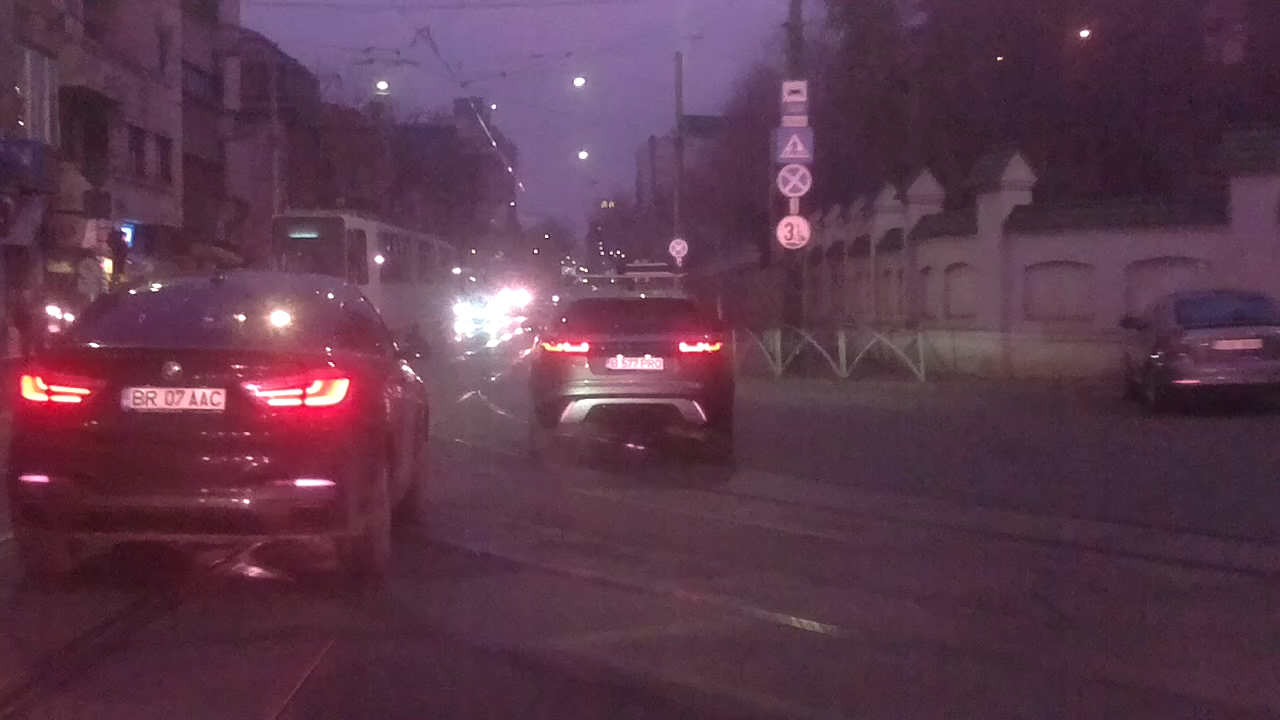license-plate: (115, 384, 228, 413), (602, 355, 667, 371)
